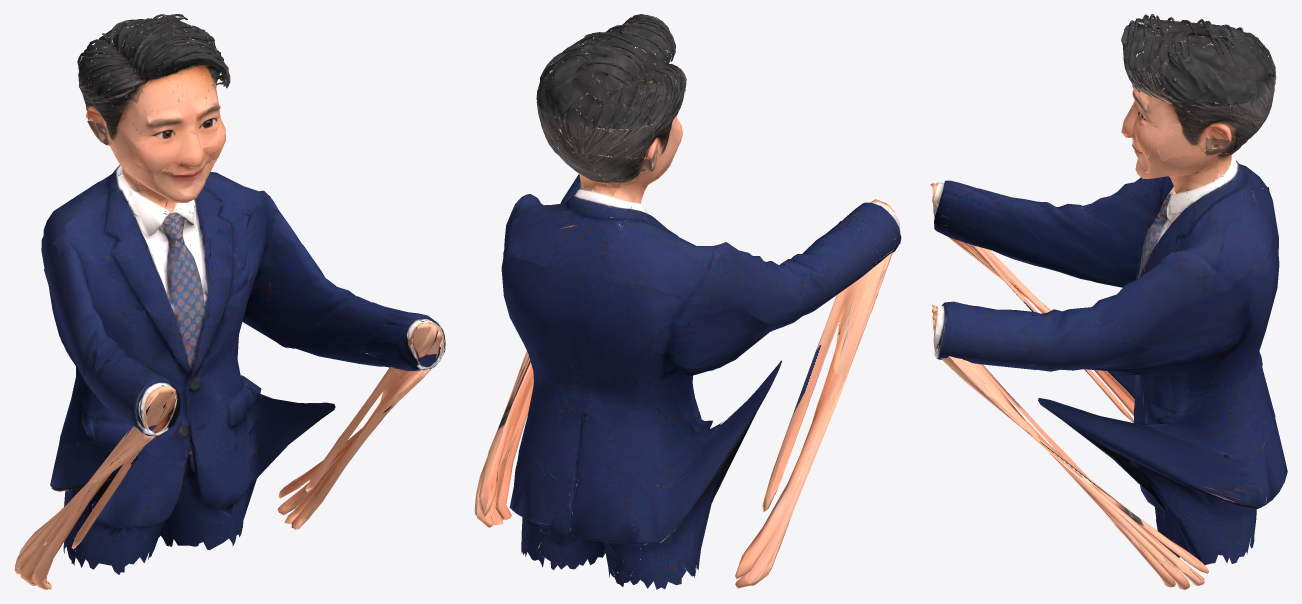
File: office-cute.glb
The picture shows the model from 3 angles, left to right: view 1: azimuth 30°, elevation 25°; view 2: azimuth 150°, elevation 25°; view 3: azimuth 270°, elevation 25°; orthographic projection. The views are drawn at different scales.
Parts seen in each view (by area): view 1: office-cute-운전자; view 2: office-cute-운전자; view 3: office-cute-운전자.
Boxes of the visible parts, box(x1,y1,x2,y2) form: office-cute-운전자: box(14, 14, 445, 589); office-cute-운전자: box(474, 14, 901, 589); office-cute-운전자: box(930, 14, 1287, 589).
Size of the model in its own units: 0.7102 by 1.15 by 0.7359.
3 materials, 1 textured.
